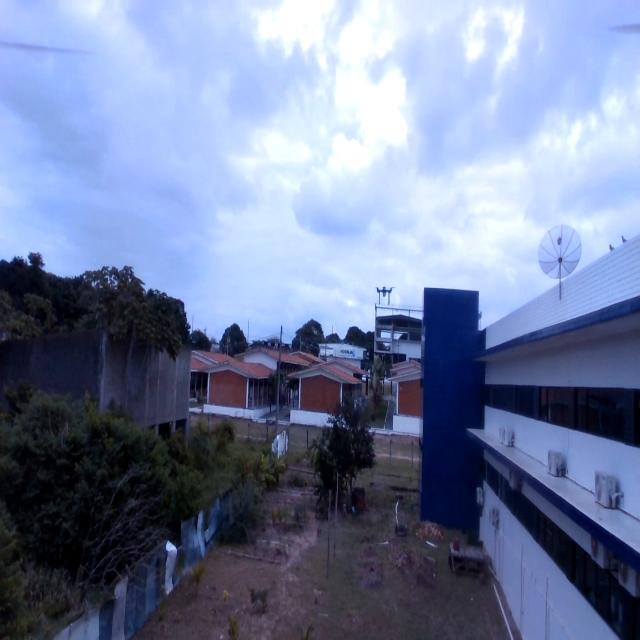-uav-: (371, 280, 397, 314)
